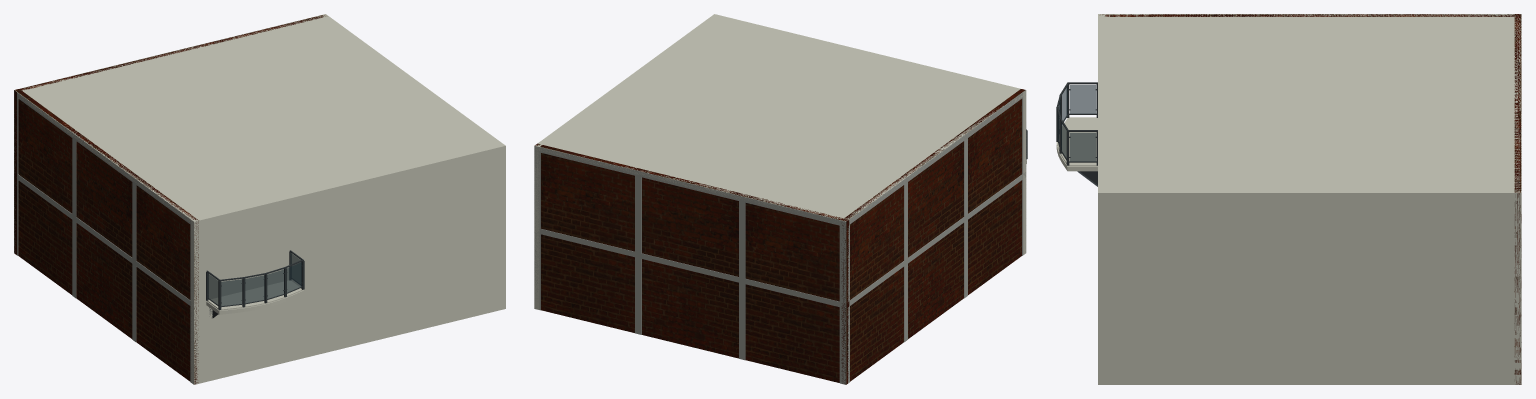
Rendered from building.glb.
3 renders of one model, left to right at view 1: azimuth 30°, elevation 25°; view 2: azimuth 150°, elevation 25°; view 3: azimuth 270°, elevation 25°, orthographic. The views are drawn at different scales.
Parts seen in each view (by area): view 1: roof/house:0/roof_slab#0001, house:0/edge0/z0/house:0/edge0/z0/wall_0_0, house:0/edge3/z0/house:0/edge3/z0/wall_0_0, house:0/edge2/z0/house:0/edge2/z0/wall_0_0, house:0/edge1/z0/house:0/edge1/z0/wall_0_0, balcony/sample/balcony_platform#0001, house:0/edge3/z0/house:0/edge3/z0/beam_0_0, house:0/edge3/z0/house:0/edge3/z0/beam_1_0, balcony/sample/balcony_glass#0002, balcony/sample/balcony_glass#0003, balcony/sample/balcony_fascia#0001, balcony/sample/balcony_glass#0004; view 2: roof/house:0/roof_slab#0001, house:0/edge2/z0/house:0/edge2/z0/wall_0_0, house:0/edge3/z0/house:0/edge3/z0/wall_0_0, house:0/edge2/z0/house:0/edge2/z0/beam_1_0, house:0/edge2/z0/house:0/edge2/z0/beam_0_0, house:0/edge1/z0/house:0/edge1/z0/wall_0_0, house:0/edge0/z0/house:0/edge0/z0/wall_0_0, house:0/edge3/z0/house:0/edge3/z0/beam_0_0, house:0/edge3/z0/house:0/edge3/z0/beam_1_0, house:0/edge2/z0/house:0/edge2/z0/column_1_1, house:0/edge2/z0/house:0/edge2/z0/column_1_0, house:0/edge2/z0/house:0/edge2/z0/column_3_1 (+4 smaller); view 3: house:0/edge1/z0/house:0/edge1/z0/wall_0_0, roof/house:0/roof_slab#0001, house:0/edge0/z0/house:0/edge0/z0/wall_0_0, house:0/edge2/z0/house:0/edge2/z0/wall_0_0, balcony/sample/balcony_platform#0001, house:0/edge3/z0/house:0/edge3/z0/wall_0_0, balcony/sample/balcony_glass#0006, balcony/sample/balcony_glass#0001, house:0/edge3/z0/house:0/edge3/z0/beam_1_0.
Part boxes in pixels (bbox=[...]): roof/house:0/roof_slab#0001: bbox=[18, 14, 504, 224]; house:0/edge0/z0/house:0/edge0/z0/wall_0_0: bbox=[191, 143, 505, 384]; house:0/edge3/z0/house:0/edge3/z0/wall_0_0: bbox=[15, 89, 198, 384]; house:0/edge2/z0/house:0/edge2/z0/wall_0_0: bbox=[14, 15, 325, 254]; house:0/edge1/z0/house:0/edge1/z0/wall_0_0: bbox=[321, 14, 505, 309]; balcony/sample/balcony_platform#0001: bbox=[207, 280, 302, 310]; house:0/edge3/z0/house:0/edge3/z0/beam_0_0: bbox=[14, 172, 194, 306]; house:0/edge3/z0/house:0/edge3/z0/beam_1_0: bbox=[15, 90, 193, 225]; balcony/sample/balcony_glass#0002: bbox=[221, 279, 242, 305]; balcony/sample/balcony_glass#0003: bbox=[245, 275, 264, 302]; balcony/sample/balcony_fascia#0001: bbox=[206, 290, 303, 314]; balcony/sample/balcony_glass#0004: bbox=[267, 269, 284, 298]; roof/house:0/roof_slab#0001: bbox=[534, 15, 1026, 223]; house:0/edge2/z0/house:0/edge2/z0/wall_0_0: bbox=[535, 143, 849, 384]; house:0/edge3/z0/house:0/edge3/z0/wall_0_0: bbox=[841, 89, 1025, 384]; house:0/edge2/z0/house:0/edge2/z0/beam_1_0: bbox=[534, 145, 846, 226]; house:0/edge2/z0/house:0/edge2/z0/beam_0_0: bbox=[534, 228, 846, 308]; house:0/edge1/z0/house:0/edge1/z0/wall_0_0: bbox=[534, 14, 716, 309]; house:0/edge0/z0/house:0/edge0/z0/wall_0_0: bbox=[712, 14, 1026, 254]; house:0/edge3/z0/house:0/edge3/z0/beam_0_0: bbox=[845, 172, 1026, 308]; house:0/edge3/z0/house:0/edge3/z0/beam_1_0: bbox=[846, 90, 1025, 224]; house:0/edge2/z0/house:0/edge2/z0/column_1_1: bbox=[839, 226, 846, 303]; house:0/edge2/z0/house:0/edge2/z0/column_1_0: bbox=[839, 307, 846, 384]; house:0/edge2/z0/house:0/edge2/z0/column_3_1: bbox=[739, 282, 745, 360]; house:0/edge1/z0/house:0/edge1/z0/wall_0_0: bbox=[1098, 190, 1521, 384]; roof/house:0/roof_slab#0001: bbox=[1098, 14, 1521, 197]; house:0/edge0/z0/house:0/edge0/z0/wall_0_0: bbox=[1098, 14, 1105, 384]; house:0/edge2/z0/house:0/edge2/z0/wall_0_0: bbox=[1514, 14, 1521, 384]; balcony/sample/balcony_platform#0001: bbox=[1057, 117, 1097, 166]; house:0/edge3/z0/house:0/edge3/z0/wall_0_0: bbox=[1102, 14, 1514, 16]; balcony/sample/balcony_glass#0006: bbox=[1070, 132, 1096, 161]; balcony/sample/balcony_glass#0001: bbox=[1070, 85, 1096, 113]; house:0/edge3/z0/house:0/edge3/z0/beam_1_0: bbox=[1105, 14, 1514, 14].
Size of the model in its own units: 12 by 6 by 13.19.
5 materials, 1 textured.
